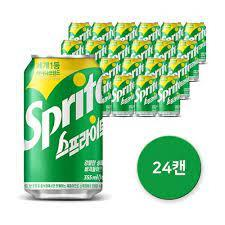sprite: (20, 53, 108, 204), (157, 73, 183, 117), (133, 77, 157, 119), (112, 74, 132, 118), (191, 22, 206, 64), (174, 59, 189, 100), (183, 42, 197, 80)
